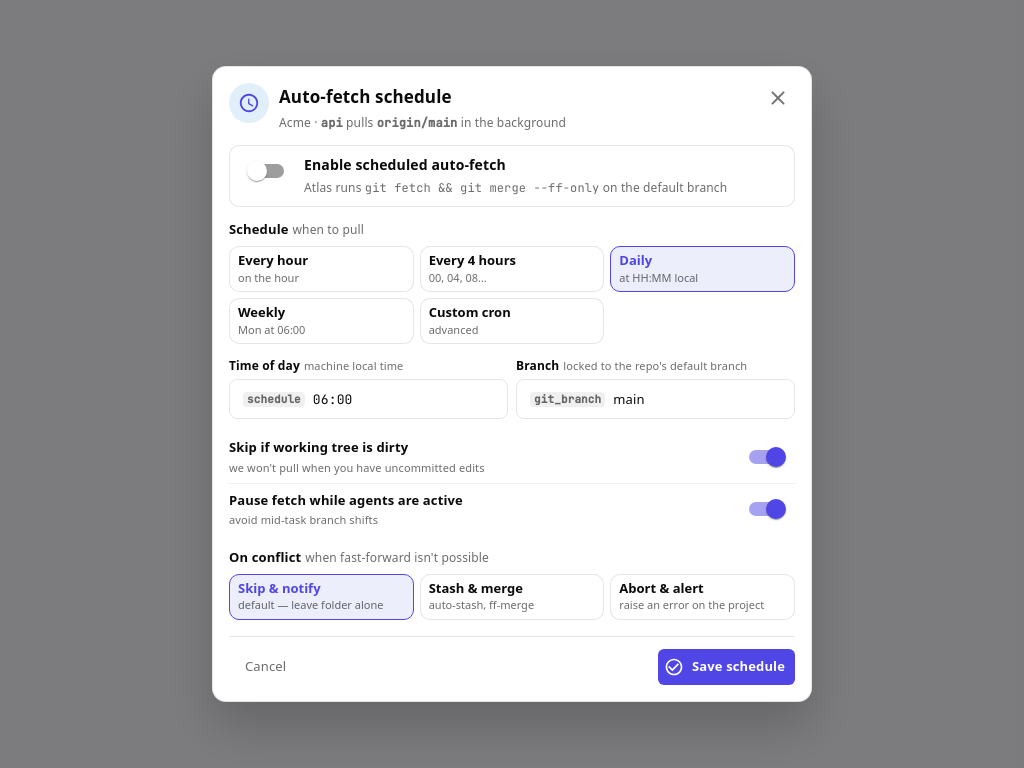
Test: AutoFetchScheduleModal — submit error › shows error and does not close when save fails
Click the button "Save schedule" at (726, 667), box [658,649,795,685]
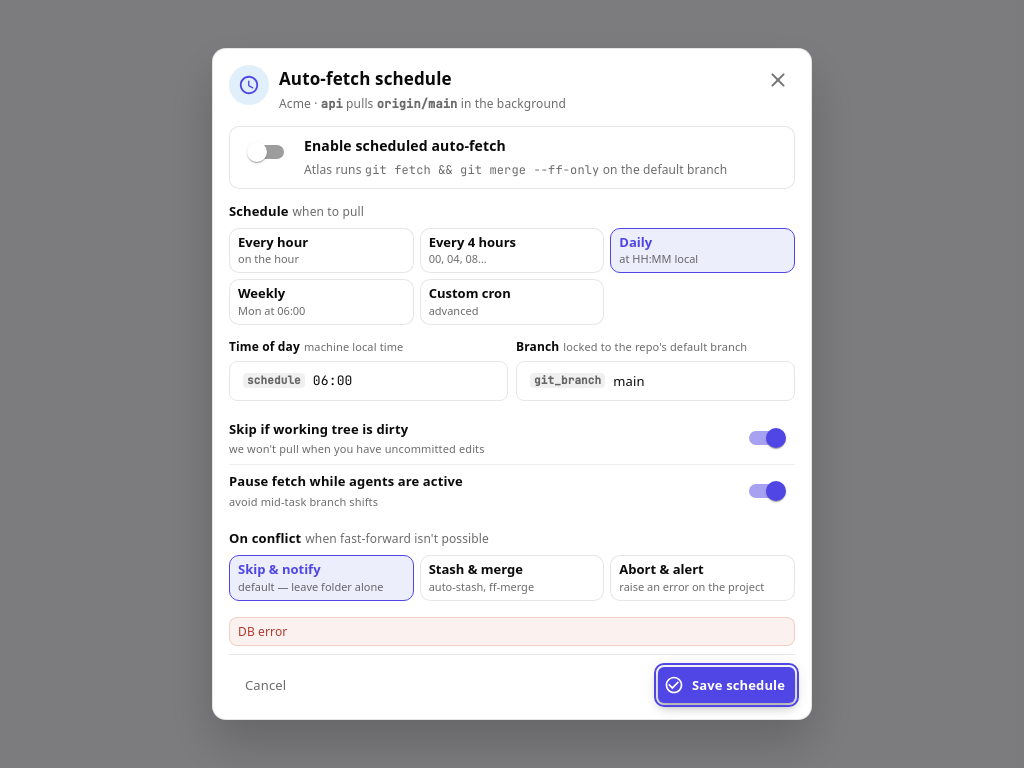
Expected: the message "DB error" is shown, [229,617,795,646]
